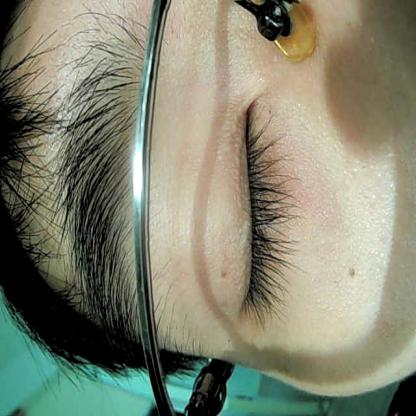Close: (202, 86, 294, 335)
